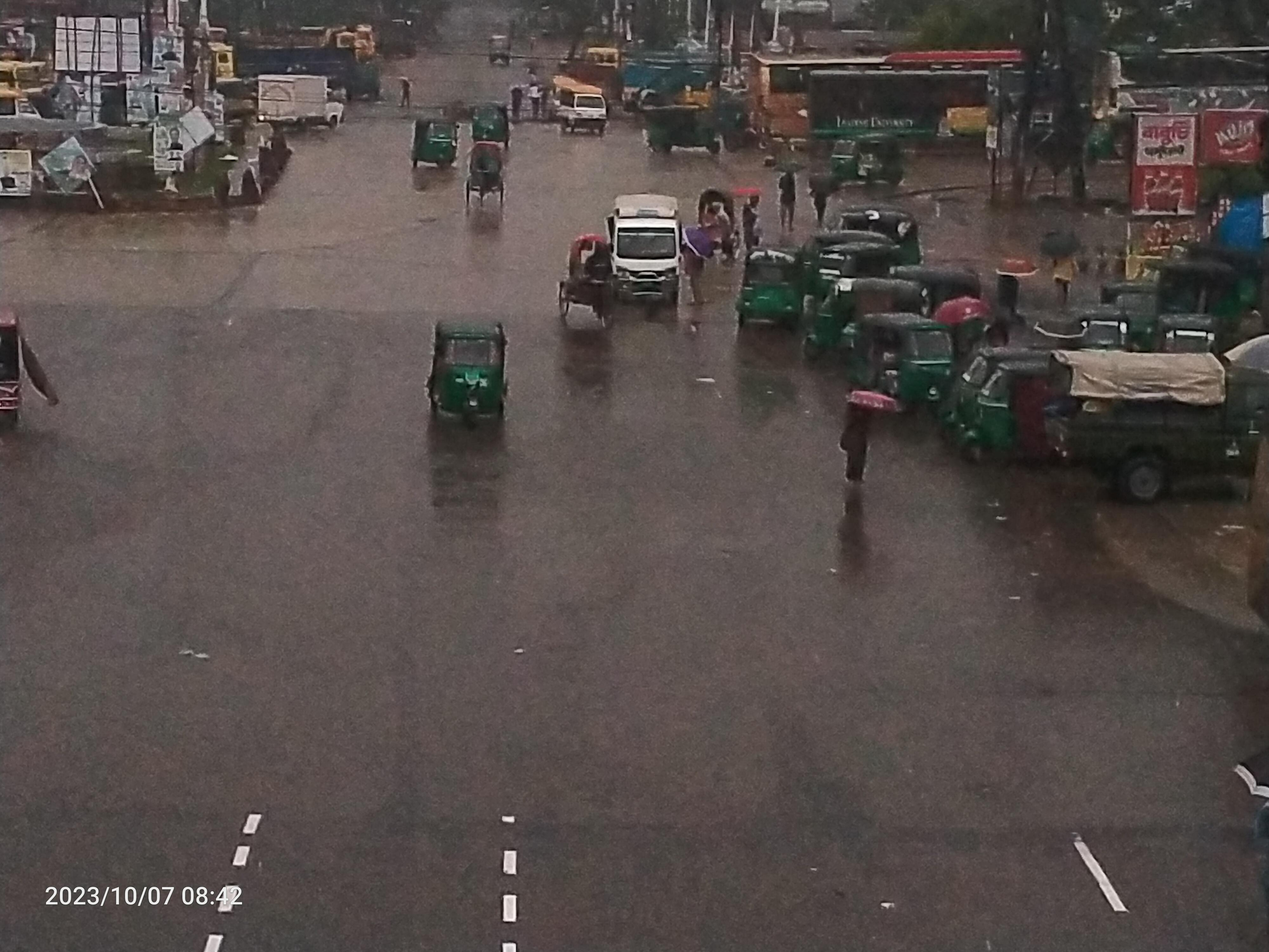Bus: (733, 37, 1059, 178)
Car: (0, 284, 101, 479), (592, 168, 702, 329), (541, 213, 639, 352), (437, 128, 526, 232), (249, 71, 351, 142), (549, 72, 621, 152)
Truck: (1041, 319, 1269, 532)
